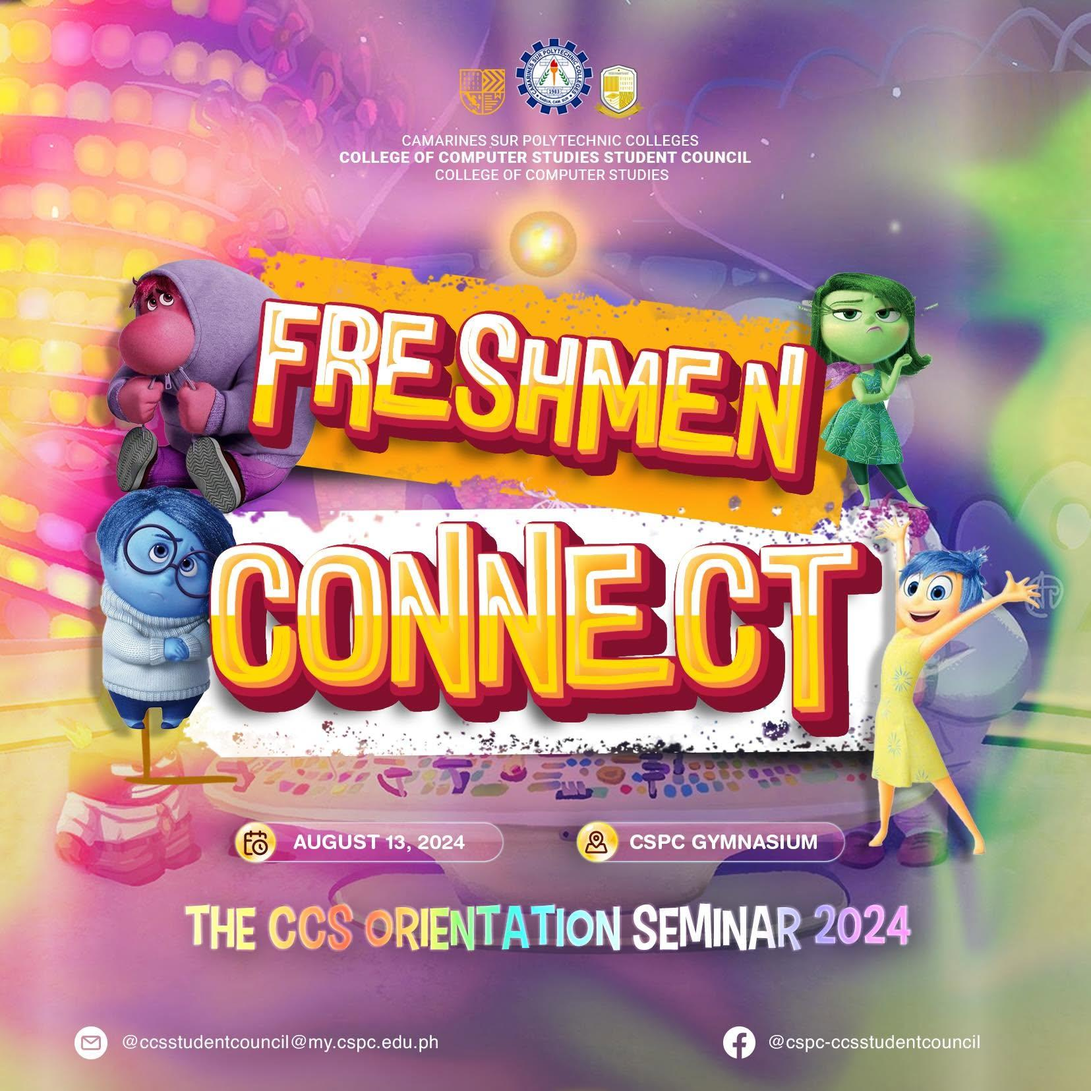embellishment: (857, 521, 1039, 867), (103, 271, 290, 512), (79, 486, 221, 746), (800, 280, 933, 491), (576, 821, 625, 864), (233, 823, 277, 864), (723, 1026, 756, 1061), (74, 1026, 107, 1059)
logo: (514, 36, 593, 118), (457, 63, 508, 115), (600, 61, 637, 118)
text: (214, 518, 881, 747), (251, 291, 834, 510), (185, 904, 912, 953), (339, 132, 751, 185), (116, 1026, 438, 1058), (767, 1026, 980, 1058), (286, 826, 471, 852), (623, 831, 824, 852)
underlay: (178, 511, 934, 759), (258, 249, 868, 541), (576, 821, 846, 864), (233, 821, 503, 864)
